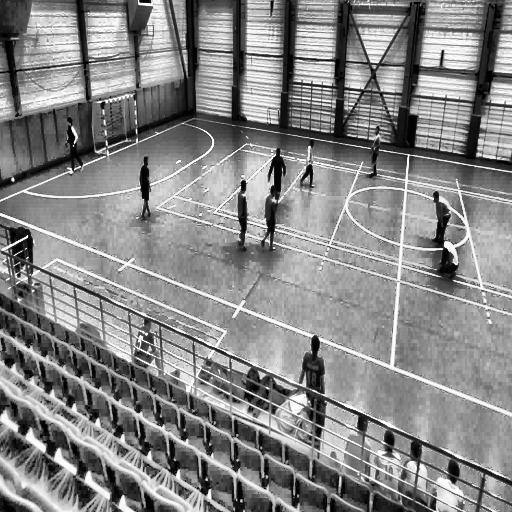ball: (10, 176, 16, 186)
player: (432, 190, 453, 248), (435, 237, 459, 284), (261, 184, 277, 252), (236, 178, 249, 252), (66, 115, 82, 174), (139, 154, 153, 220), (299, 139, 314, 188), (368, 124, 381, 178)
